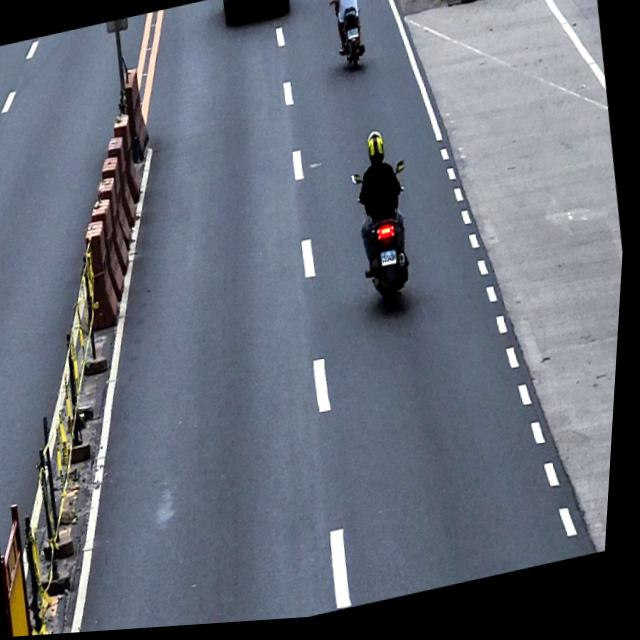License-Plate: (382, 251, 402, 273), (347, 31, 361, 46)
Motorcycle: (346, 163, 429, 318), (326, 0, 372, 79)
